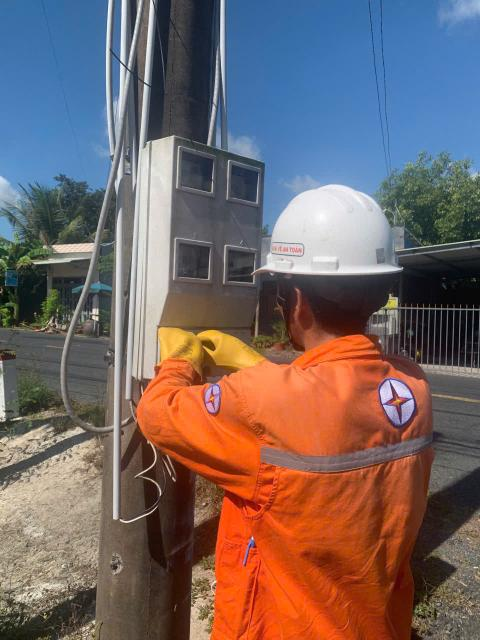gloves: (200, 319, 270, 376), (153, 329, 204, 369)
helmet: (278, 186, 394, 288)
